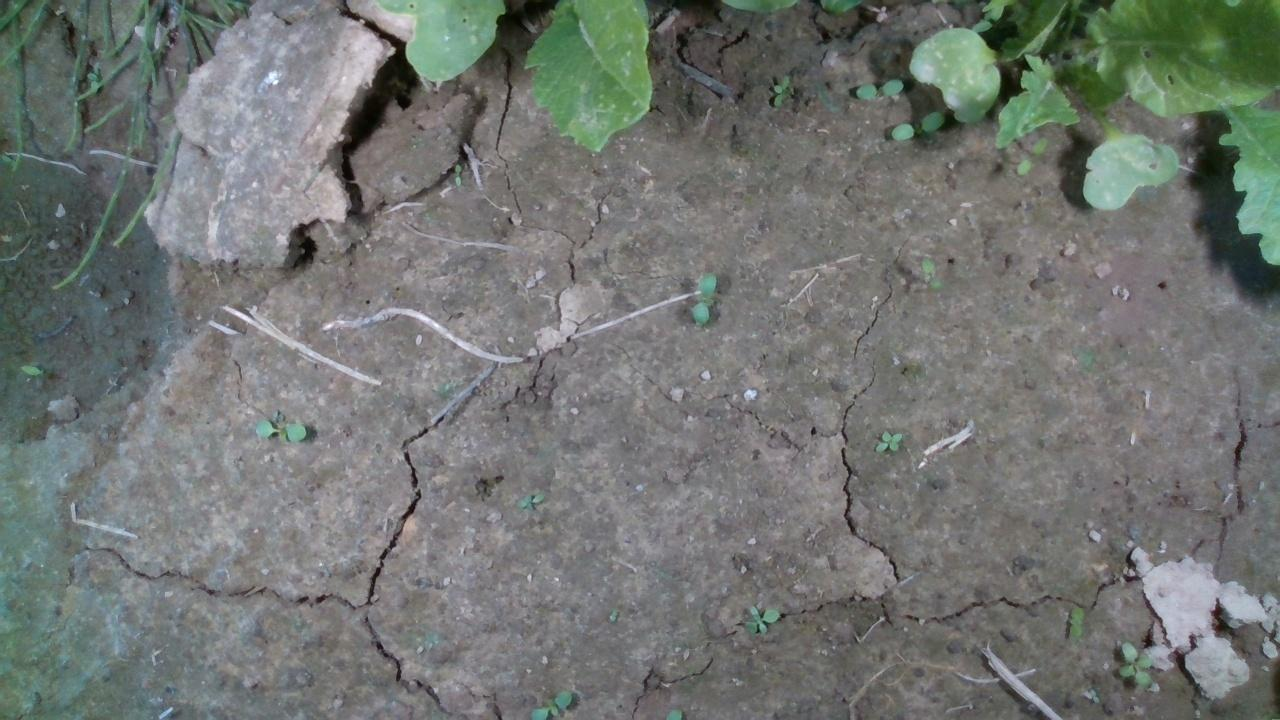weed: (1114, 640, 1154, 689), (889, 110, 944, 141), (690, 269, 717, 327), (252, 417, 307, 444), (743, 603, 779, 636), (854, 76, 903, 100), (874, 427, 902, 453), (770, 72, 790, 108), (1066, 604, 1084, 639), (452, 161, 461, 187)
